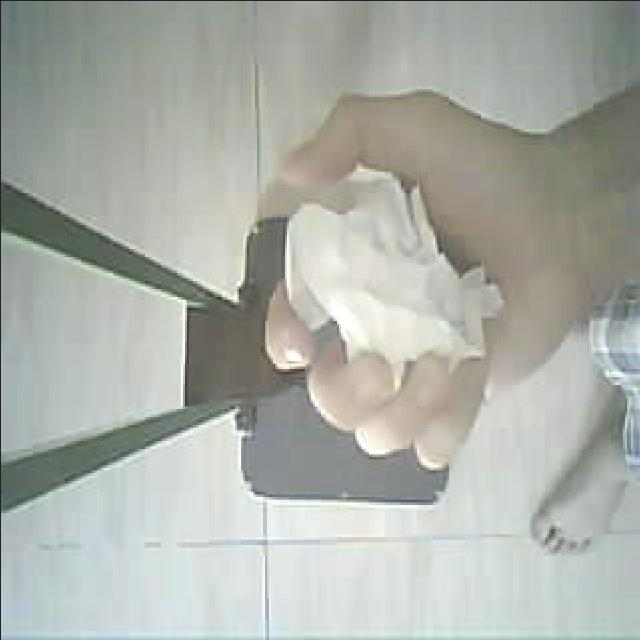Paper: (268, 181, 508, 368)
